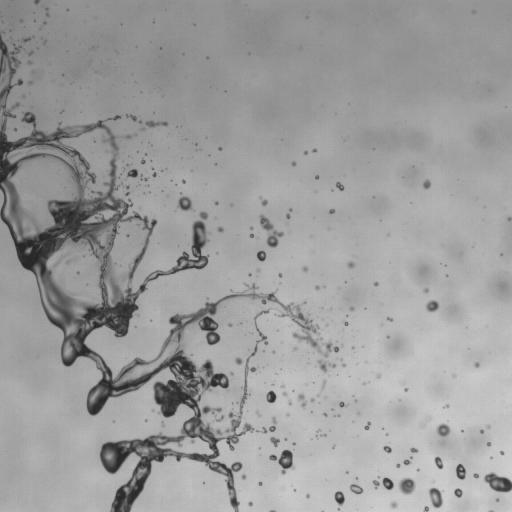droplet: (260, 215, 283, 247), (269, 450, 294, 474), (483, 472, 511, 492), (398, 477, 415, 494), (429, 487, 442, 508), (177, 195, 193, 210), (373, 477, 393, 489), (436, 423, 450, 436), (426, 300, 439, 312), (334, 491, 344, 506), (456, 464, 465, 479), (266, 390, 276, 403), (350, 484, 363, 494), (434, 457, 443, 469), (257, 251, 266, 261), (270, 437, 279, 446), (422, 179, 430, 189), (454, 488, 462, 497), (383, 445, 391, 453), (403, 457, 411, 465), (260, 197, 267, 206), (336, 182, 343, 190), (364, 422, 371, 430), (347, 261, 354, 268), (390, 501, 397, 508), (339, 402, 347, 407), (217, 226, 223, 232), (112, 115, 119, 120), (302, 266, 308, 271), (124, 134, 131, 138), (410, 448, 417, 452), (423, 288, 428, 293), (343, 320, 348, 325), (474, 362, 479, 367), (473, 473, 478, 478), (241, 474, 246, 479), (248, 501, 253, 506), (423, 506, 428, 511), (152, 171, 156, 177), (386, 317, 392, 321), (34, 0, 39, 4), (329, 209, 334, 213), (376, 373, 380, 378), (282, 392, 287, 396), (141, 159, 145, 163), (292, 162, 296, 166), (214, 201, 218, 205), (286, 214, 290, 218), (66, 260, 70, 264), (278, 273, 282, 277), (374, 282, 378, 286), (315, 285, 319, 289), (310, 398, 314, 402), (444, 404, 448, 408), (487, 442, 491, 446), (500, 451, 504, 455), (396, 463, 400, 467), (342, 362, 345, 367), (29, 51, 32, 55), (312, 149, 316, 152), (315, 175, 318, 179), (350, 307, 354, 310), (228, 323, 232, 326), (288, 400, 291, 404), (486, 424, 489, 428), (321, 433, 325, 436), (259, 481, 262, 485), (496, 498, 499, 502), (28, 61, 31, 64), (29, 81, 32, 84), (182, 180, 185, 183), (508, 217, 511, 220), (250, 234, 253, 237), (453, 374, 456, 377), (281, 384, 284, 387), (161, 423, 164, 426), (480, 430, 483, 433), (306, 494, 309, 497), (46, 13, 48, 16), (14, 128, 16, 131), (219, 147, 221, 150), (304, 151, 307, 153), (250, 227, 253, 229), (256, 269, 259, 271), (294, 347, 296, 350), (405, 388, 407, 391), (324, 413, 326, 416), (22, 95, 24, 97), (139, 120, 141, 122), (142, 128, 144, 130), (77, 271, 79, 273), (364, 382, 366, 384), (317, 394, 319, 396), (257, 412, 259, 414), (333, 445, 335, 447), (490, 457, 492, 459)
ligament: (0, 31, 339, 511), (126, 169, 148, 180), (261, 417, 276, 433), (145, 120, 167, 127), (298, 393, 306, 408), (120, 183, 129, 196), (54, 255, 64, 266), (126, 114, 137, 121), (21, 37, 31, 42), (321, 380, 326, 389), (316, 429, 320, 435), (270, 510, 275, 511), (489, 510, 493, 511)
